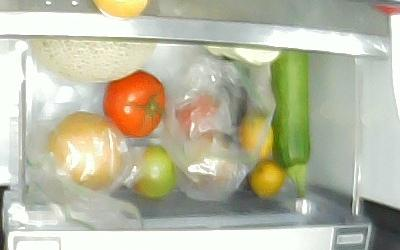melon: (33, 37, 156, 84)
pear_vinyl: (44, 111, 124, 193)
tangerine: (238, 115, 273, 159), (249, 159, 284, 198)
tomato: (103, 69, 164, 137), (129, 145, 177, 199)
zucchini: (272, 50, 308, 199)
